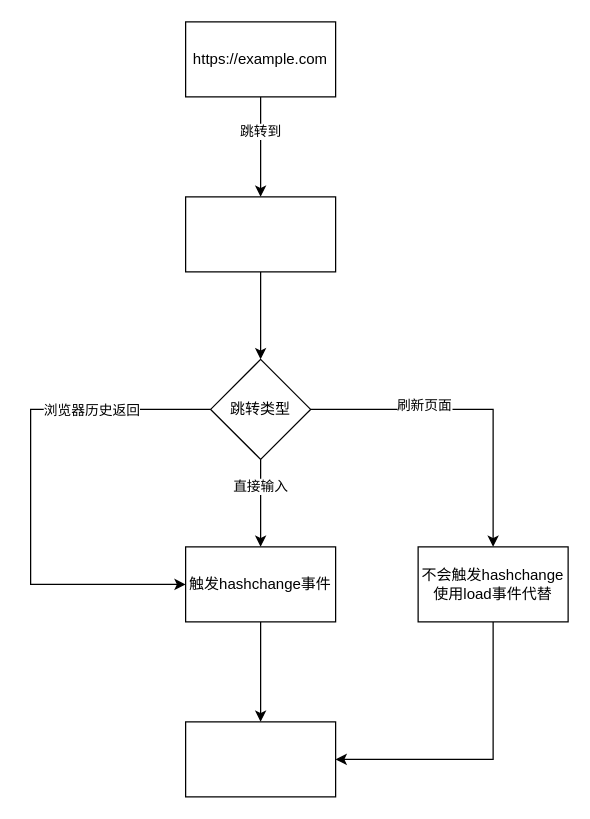
This 590x819 diagram has some shape labels left out. Here are the shapes that lost their labels. From the top down, the centre of each, then its label:
the point at 260,234: /#/blue
the point at 260,759: 解析hash，执行对应动作
